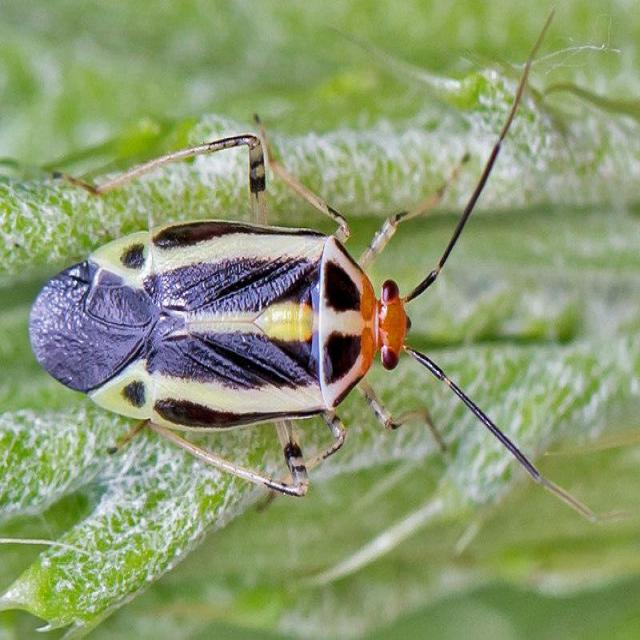Miridae-Adult-: (22, 120, 589, 531)
